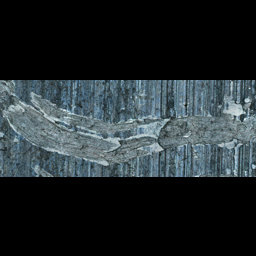d: (41, 109, 144, 167), (127, 111, 208, 161), (1, 82, 61, 145), (209, 88, 256, 155), (223, 160, 256, 176)
